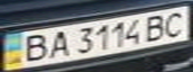1: (109, 19, 130, 48), (93, 21, 112, 52)
3: (72, 25, 96, 55)
4: (121, 16, 148, 46)
A: (45, 28, 72, 60)
B: (15, 32, 51, 63), (139, 11, 172, 42)
C: (157, 8, 193, 38)
